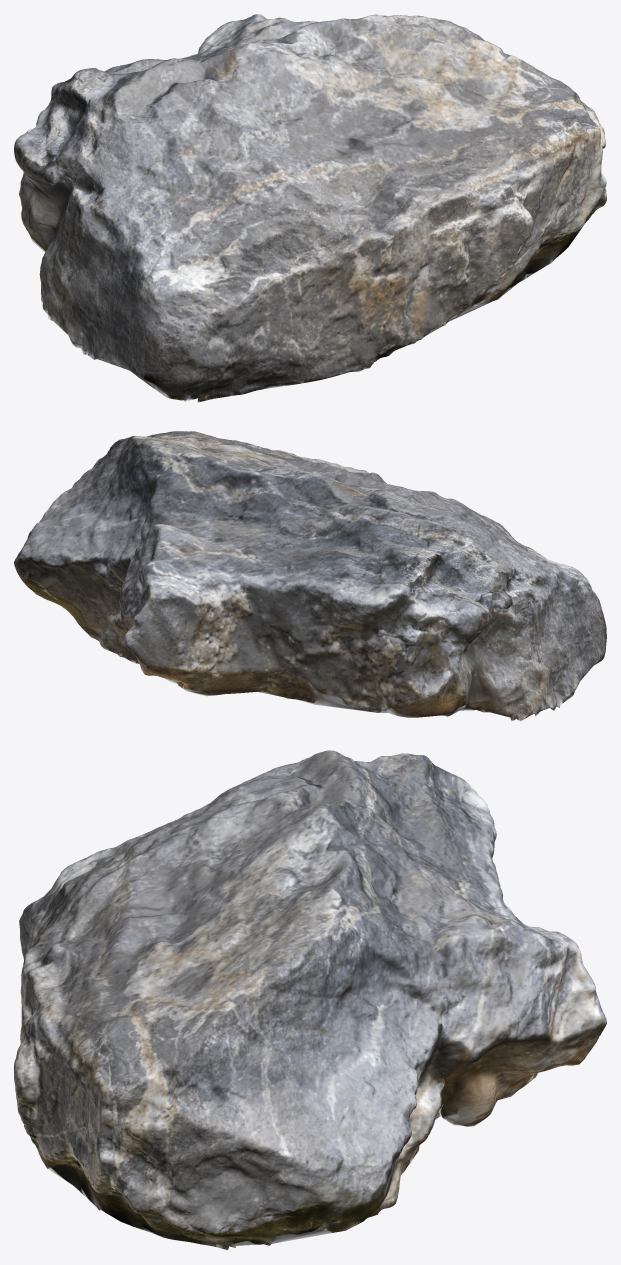
Rendered from sparse3.glb.
3 renders of one model, top to bottom at view 1: azimuth 30°, elevation 25°; view 2: azimuth 150°, elevation 25°; view 3: azimuth 270°, elevation 25°, orthographic. The views are drawn at different scales.
Size of the model in its own units: 5.43 by 2.44 by 4.14.
Materials: 1 (1 with a texture image).
